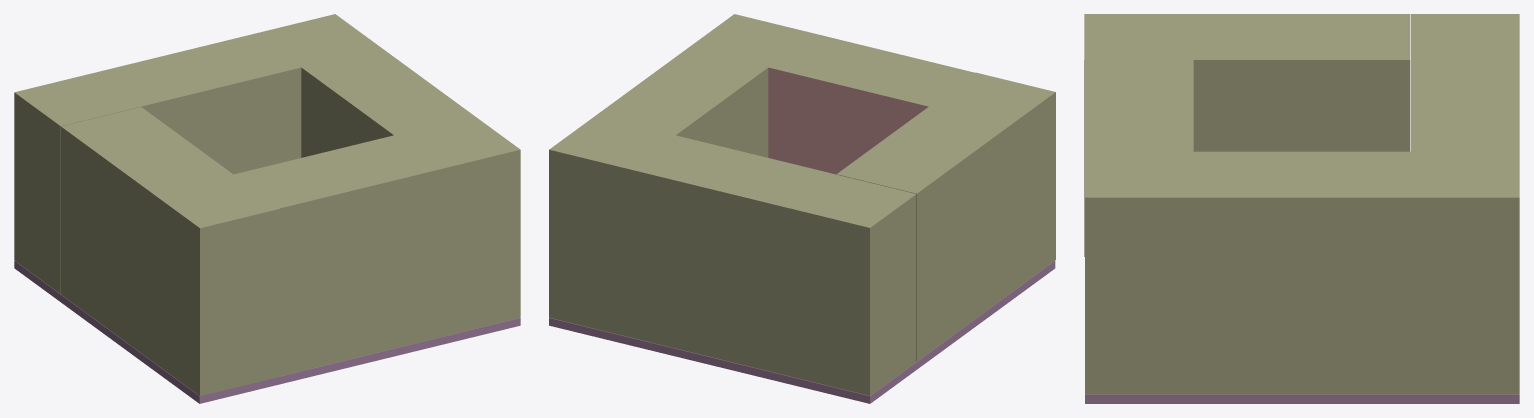
3 renders of one model, left to right at view 1: azimuth 30°, elevation 25°; view 2: azimuth 150°, elevation 25°; view 3: azimuth 270°, elevation 25°, orthographic. The views are drawn at different scales.
Parts seen in each view (by area): view 1: Base; view 2: Base; view 3: Base.
Boxes of the visible parts, x1,y1,x2,y2 form: Base: (14,14,520,403); Base: (549,14,1055,403); Base: (1084,14,1519,403).
Bounding box in the file's own units: 2 × 1.05 × 2.
